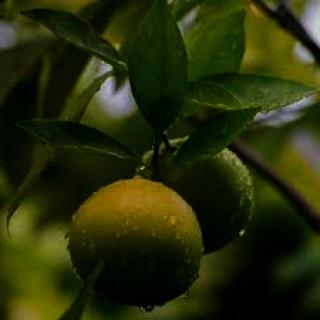orange: (50, 162, 216, 300)
